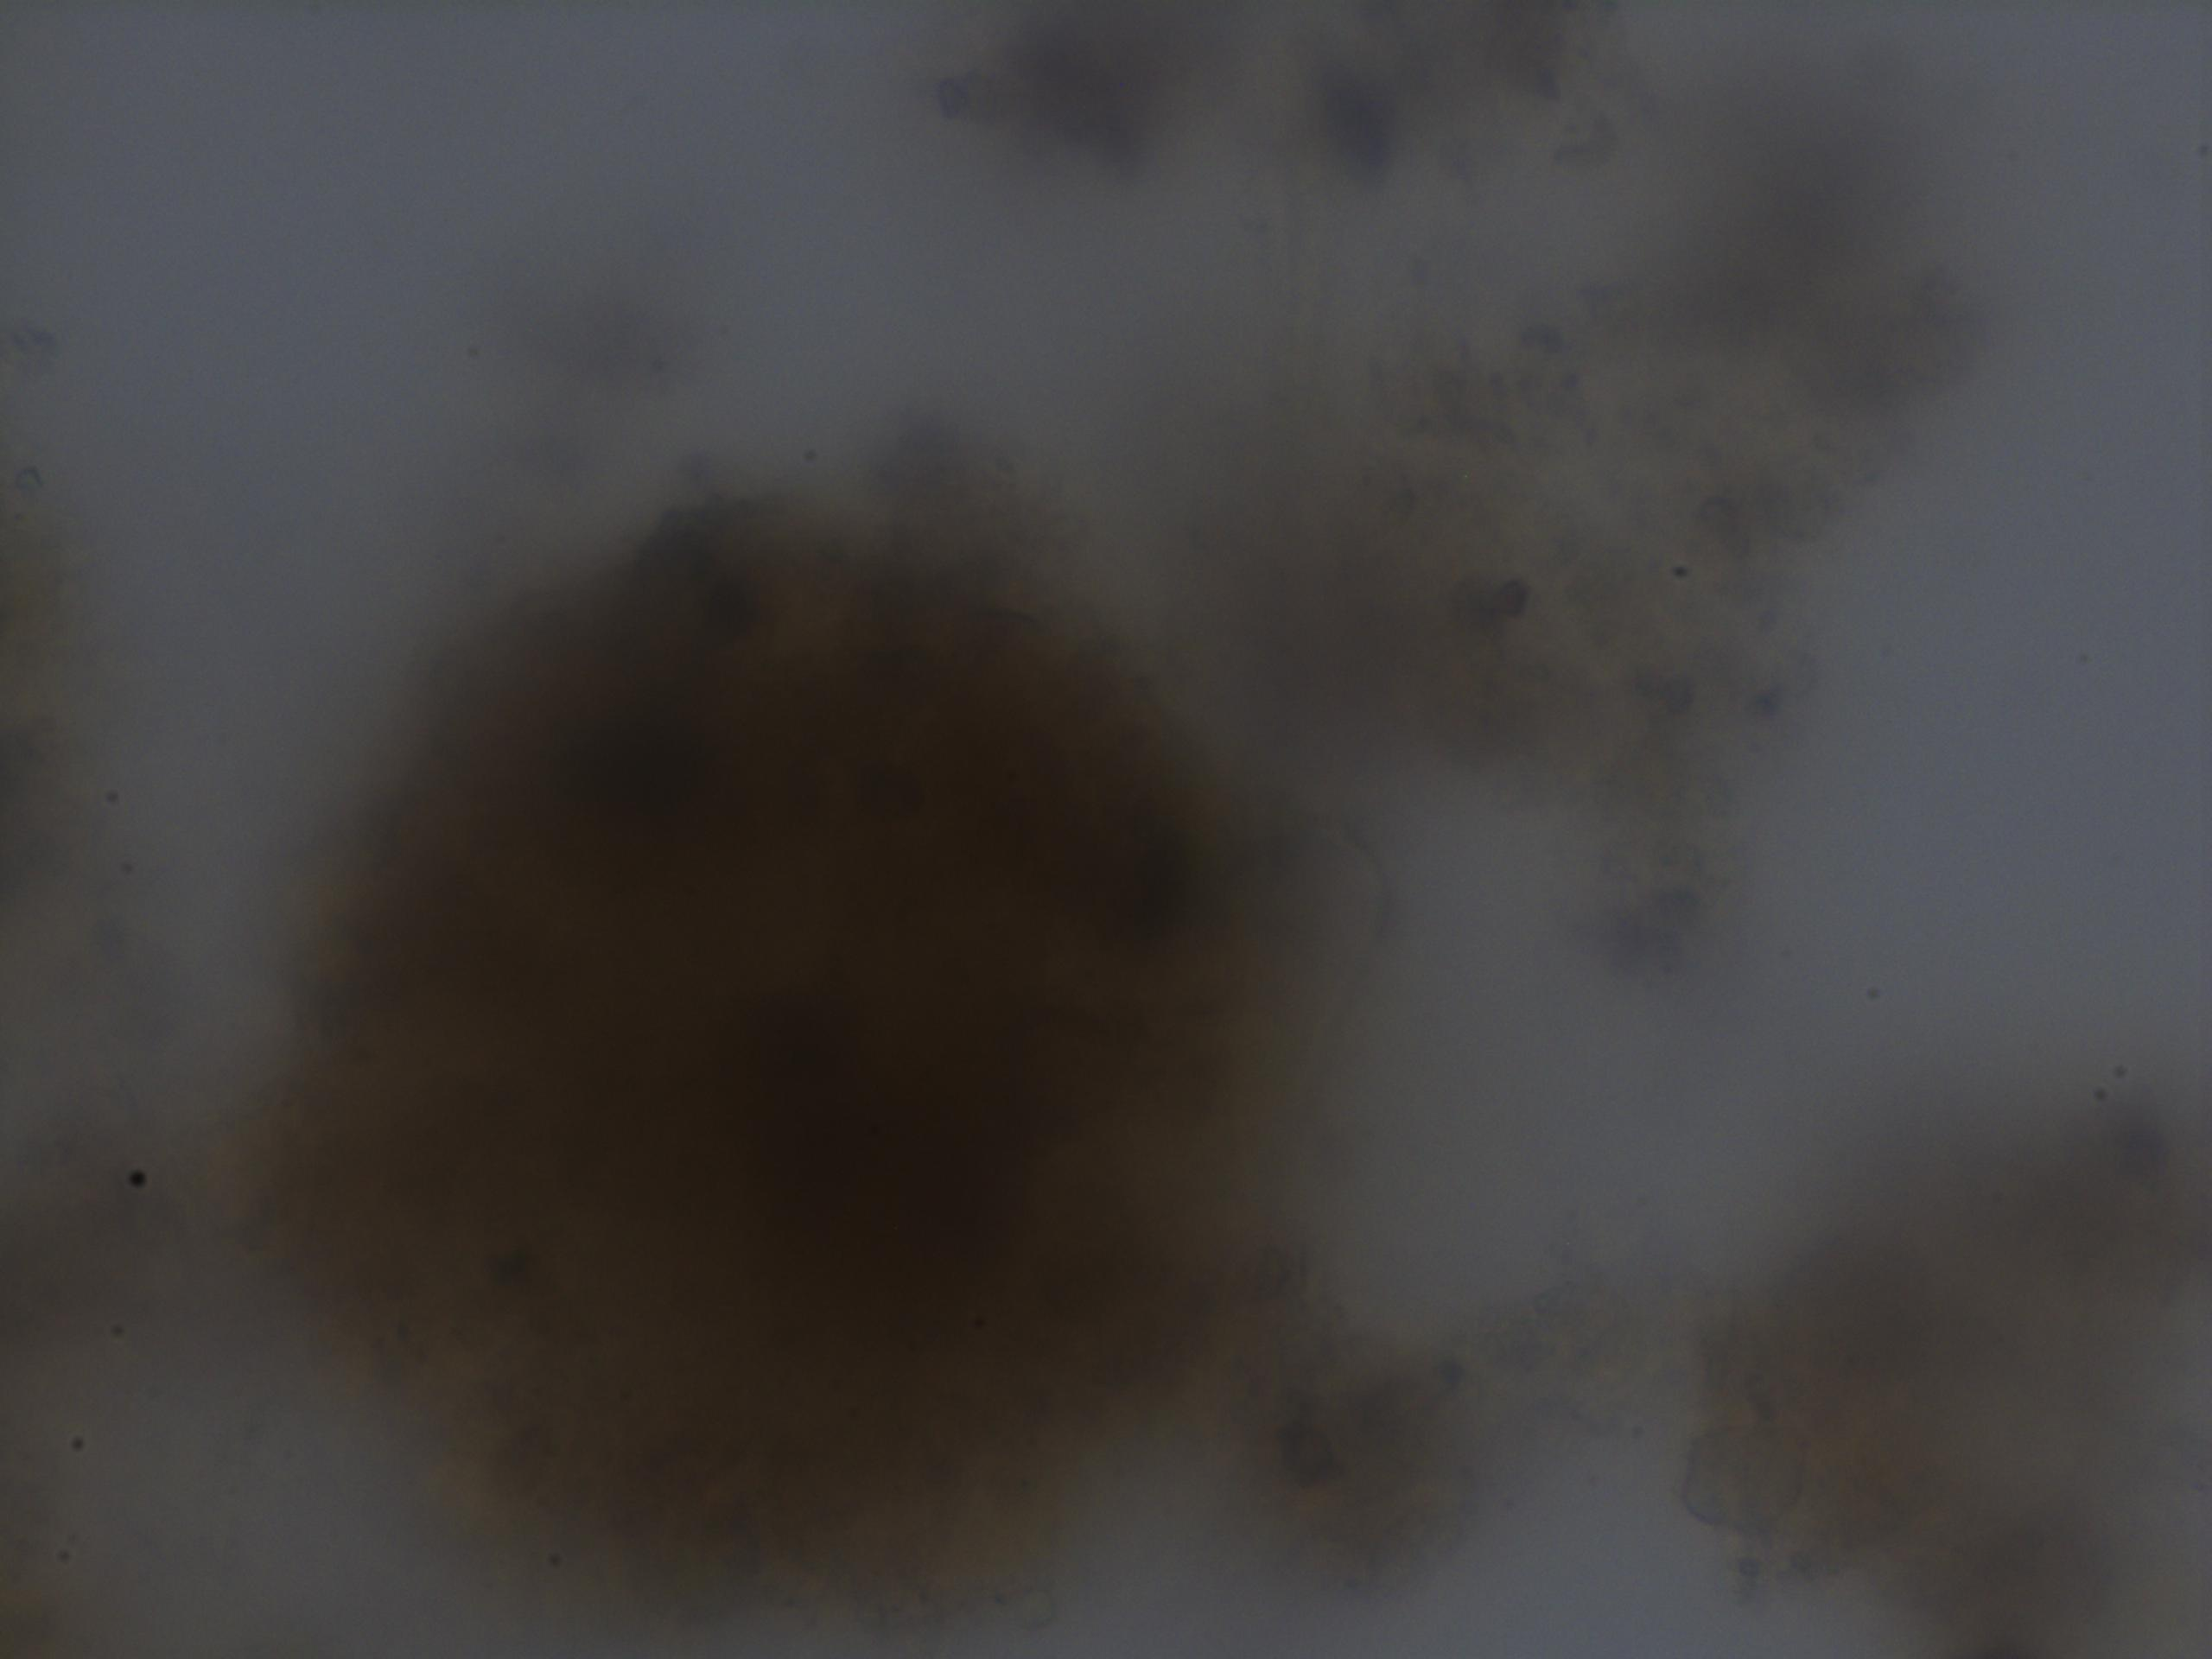spherical_floc: (266, 491, 1346, 1610)
